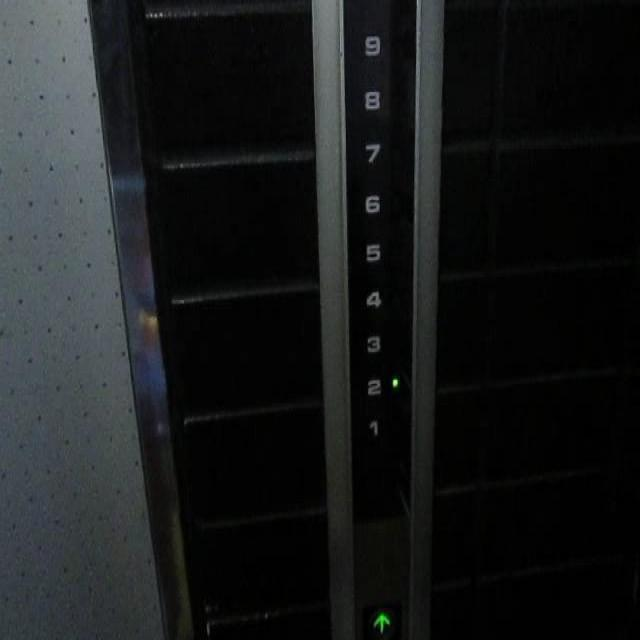1: (362, 412, 385, 441)
2: (362, 371, 385, 400)
3: (361, 329, 384, 359)
4: (361, 284, 384, 313)
5: (361, 237, 384, 267)
6: (358, 188, 385, 217)
7: (358, 137, 385, 167)
8: (357, 84, 384, 113)
9: (357, 29, 384, 59)
up: (357, 593, 401, 639)
